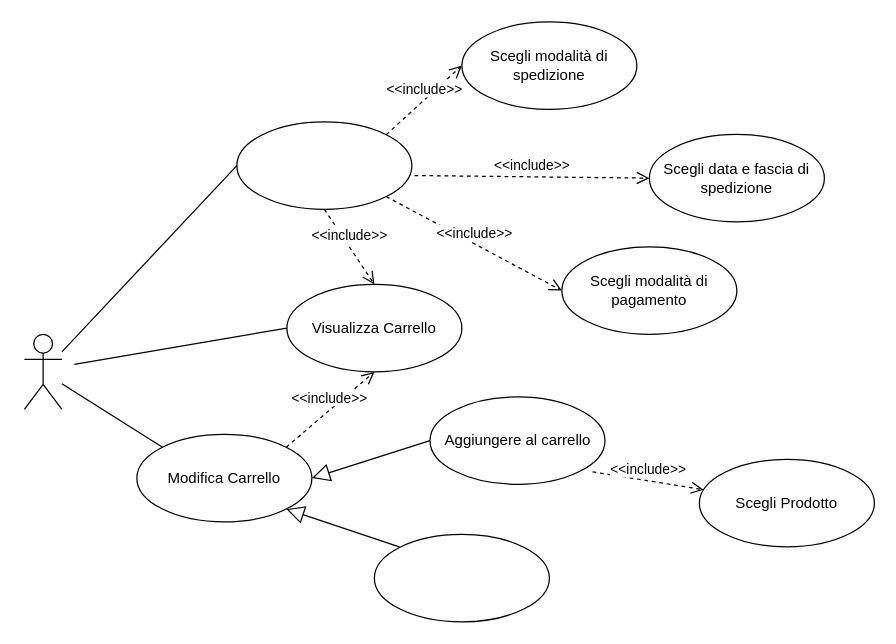
Image size: 896x644. Some labels were removed from this diagram. Each missing label, with the centre of its shape:
"Conferma Carrello" belongs at point (324, 165).
"Elimina dal carrello" belongs at point (461, 577).
"Utente" belongs at point (42, 371).
